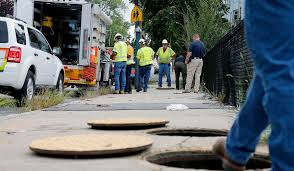Manhole-Open: (134, 141, 282, 171), (145, 119, 248, 144)
car: (1, 13, 72, 107)
human: (220, 1, 293, 171), (108, 26, 130, 94), (186, 31, 208, 94), (157, 35, 179, 97), (134, 36, 153, 92)
